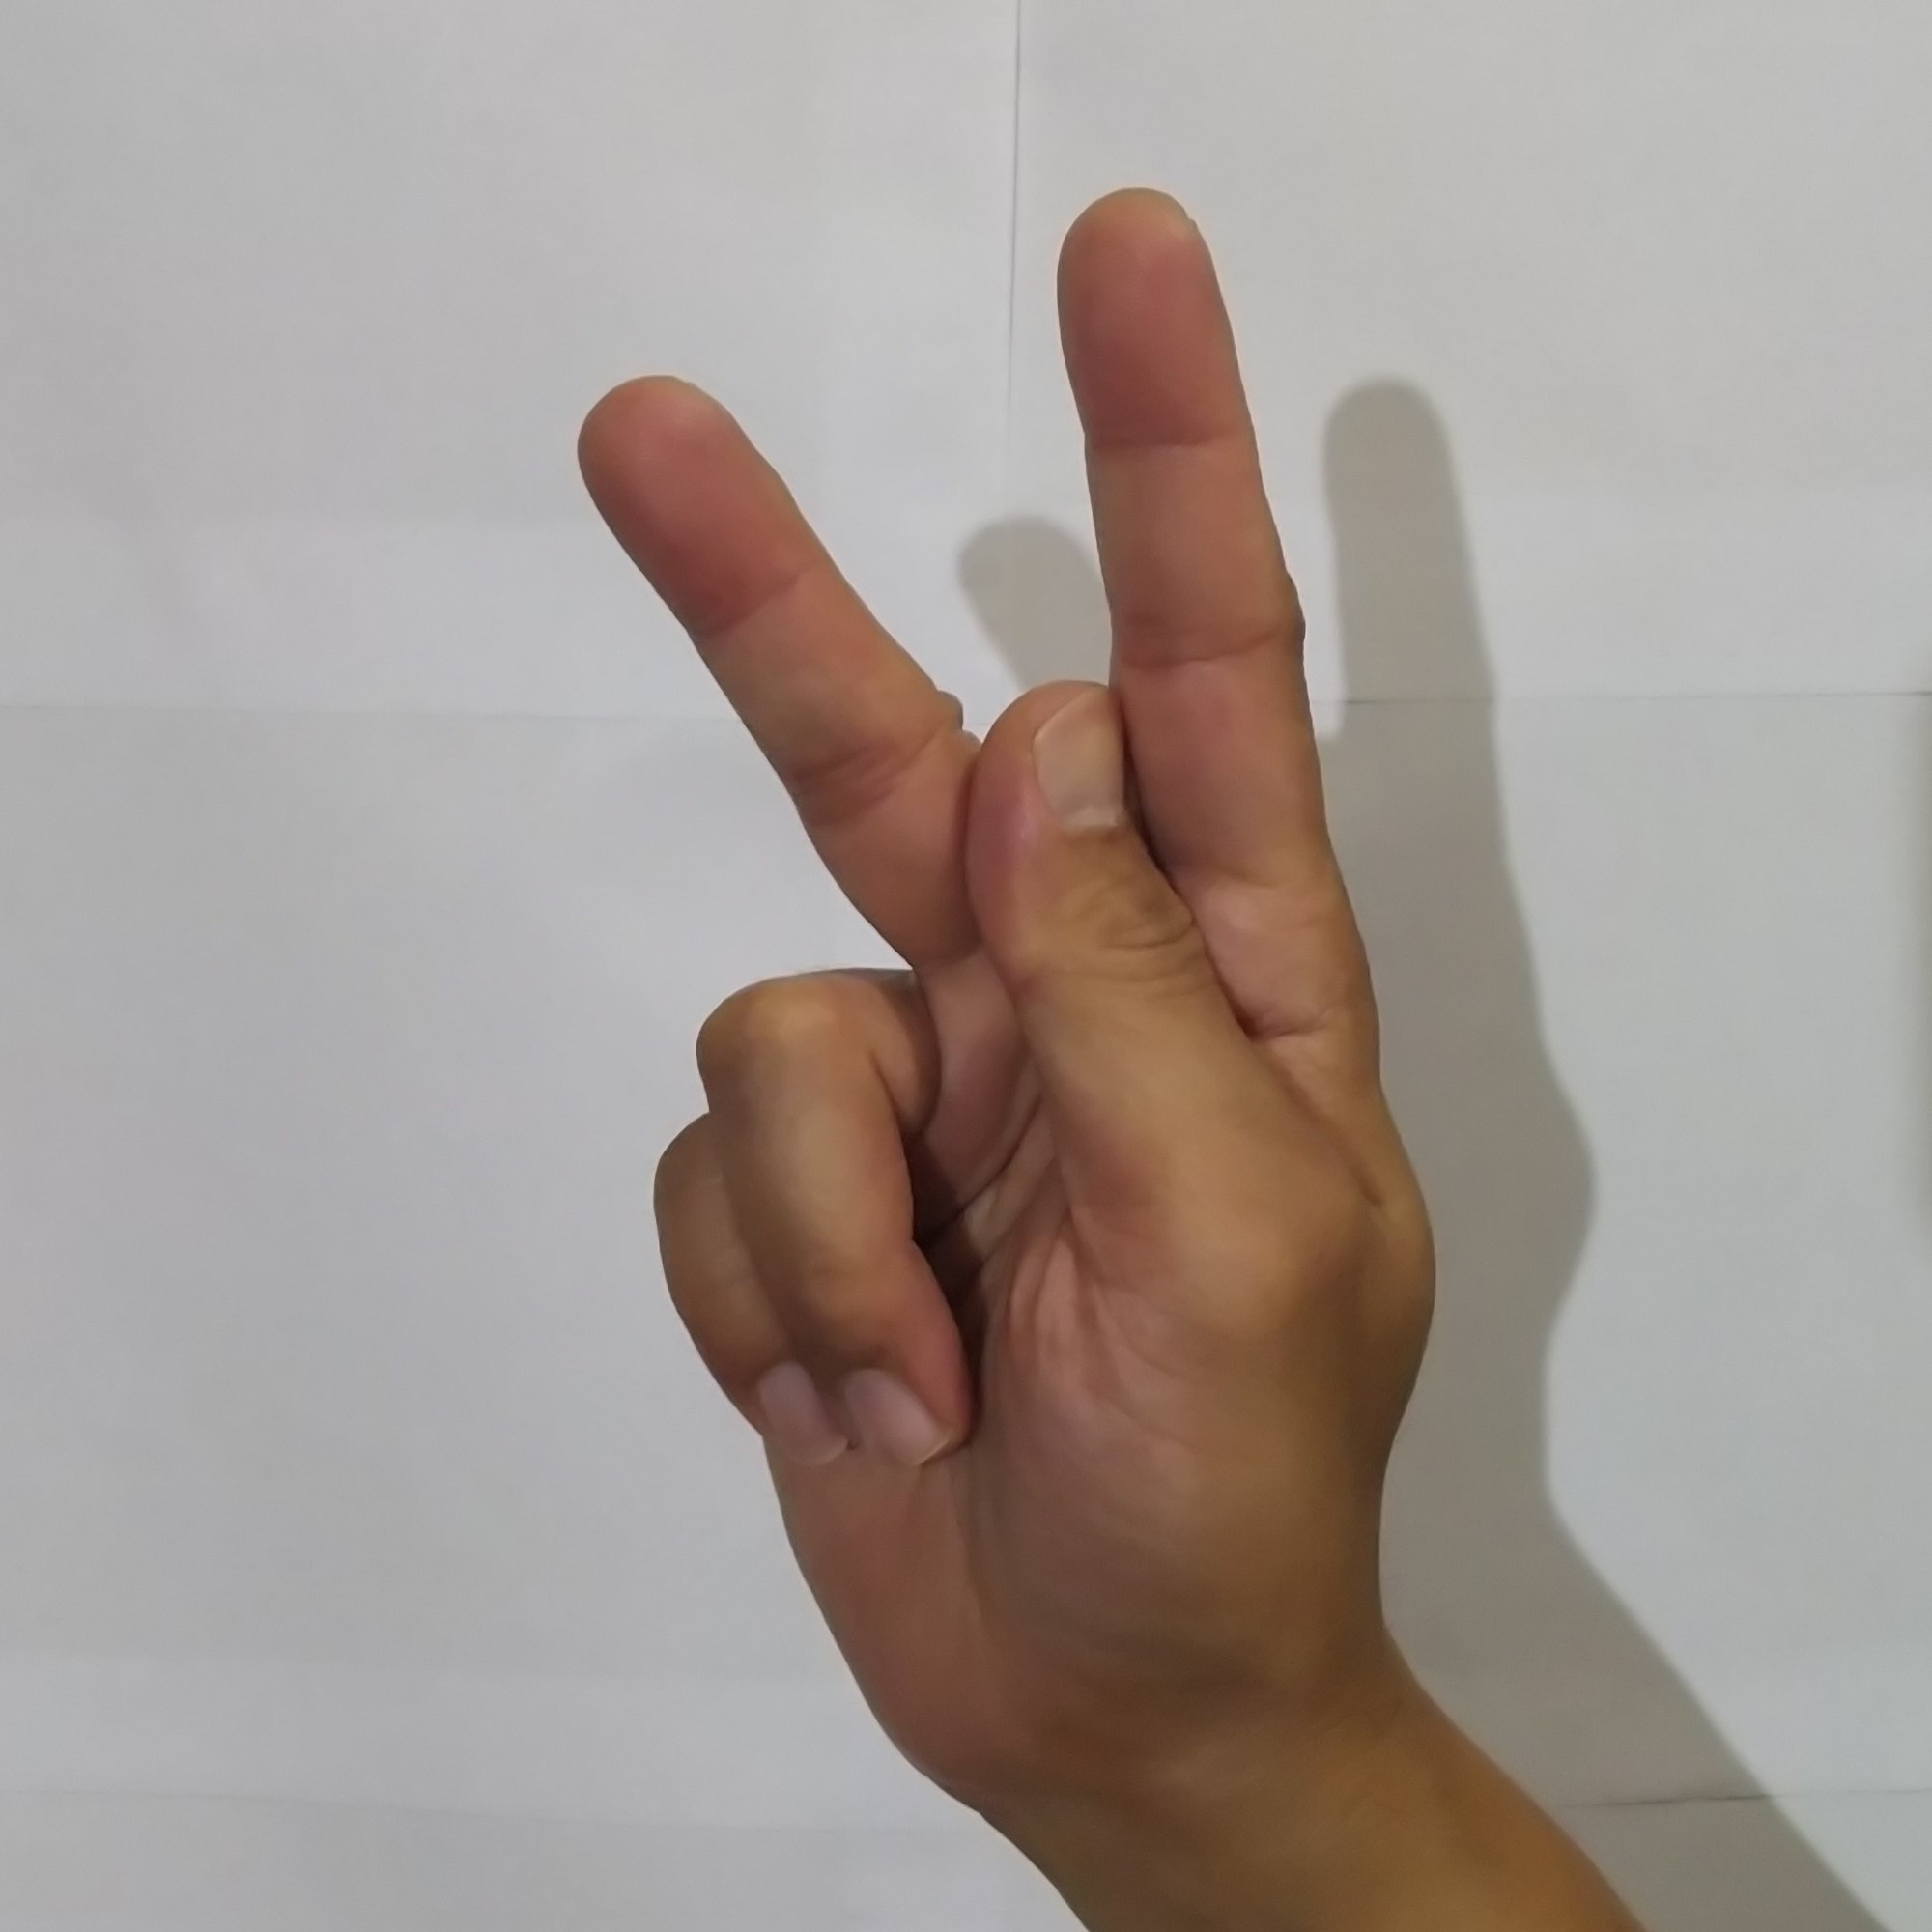K: (550, 163, 1458, 1743)
